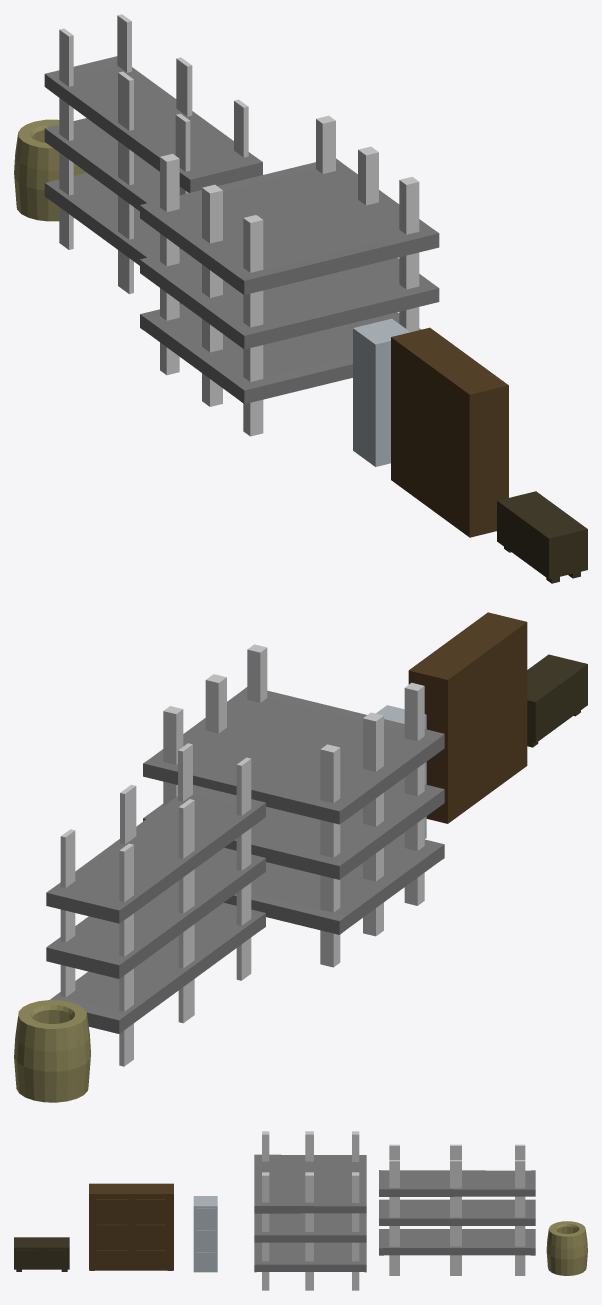
File: BasicProps_SeamMarked.fbx
3 views of the same model, one above another, from view 1: azimuth 30°, elevation 25°; view 2: azimuth 150°, elevation 25°; view 3: azimuth 270°, elevation 25° (orthographic). The views are drawn at different scales.
Visible parts, largest first — view 1: Pallet, Thin_Metal_Pallet, Double_Cabinet, Low_Drawers, Filing_Cabinet, Barrel_Container; view 2: Pallet, Thin_Metal_Pallet, Double_Cabinet, Barrel_Container, Low_Drawers; view 3: Thin_Metal_Pallet, Pallet, Double_Cabinet, Barrel_Container, Filing_Cabinet, Low_Drawers.
Boxes of the visible parts, left/top/right/bottom form: Pallet: left=140, top=115, right=439, bottom=436; Thin_Metal_Pallet: left=44, top=14, right=262, bottom=304; Double_Cabinet: left=391, top=327, right=508, bottom=537; Low_Drawers: left=497, top=491, right=587, bottom=583; Filing_Cabinet: left=353, top=318, right=410, bottom=466; Barrel_Container: left=14, top=119, right=86, bottom=221; Pallet: left=143, top=644, right=444, bottom=967; Thin_Metal_Pallet: left=46, top=743, right=265, bottom=1066; Double_Cabinet: left=408, top=612, right=527, bottom=823; Barrel_Container: left=14, top=1000, right=90, bottom=1102; Low_Drawers: left=527, top=654, right=587, bottom=747; Thin_Metal_Pallet: left=379, top=1144, right=535, bottom=1275; Pallet: left=254, top=1131, right=366, bottom=1290; Double_Cabinet: left=89, top=1183, right=173, bottom=1270; Barrel_Container: left=546, top=1221, right=587, bottom=1275; Filing_Cabinet: left=193, top=1196, right=217, bottom=1272; Low_Drawers: left=14, top=1237, right=69, bottom=1271.
Size of the model in its own units: 48.38 by 50.89 by 229.
